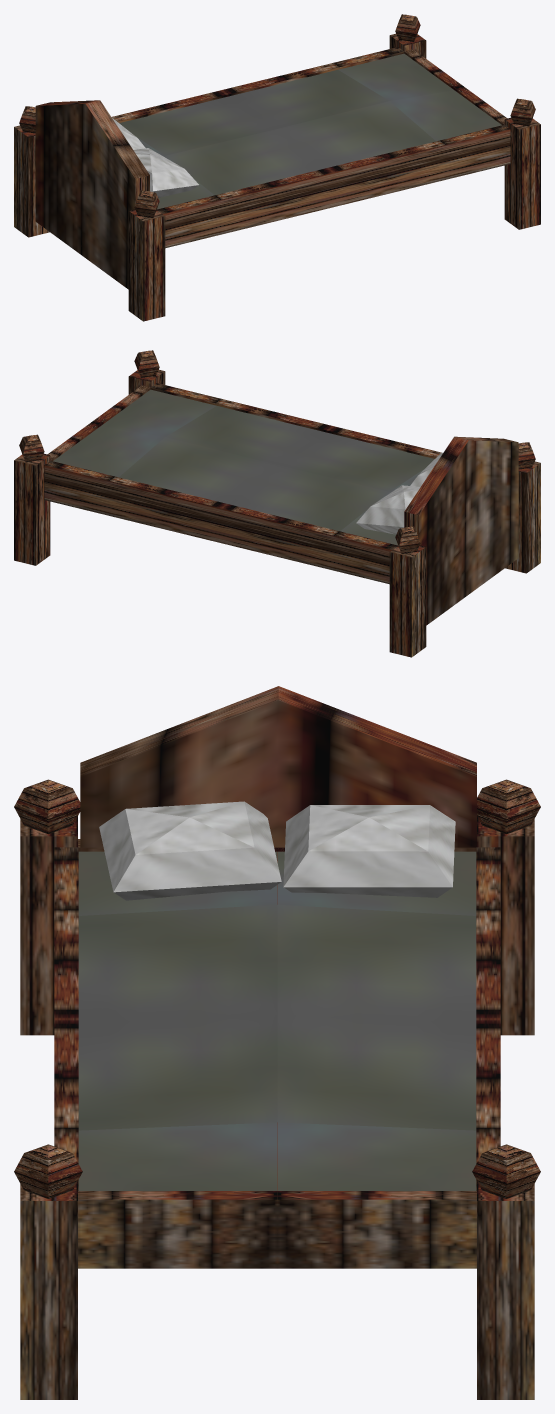
The model's file is bed.fbx.
The picture shows the model from 3 angles, top to bottom: view 1: azimuth 30°, elevation 25°; view 2: azimuth 150°, elevation 25°; view 3: azimuth 270°, elevation 25°; orthographic projection. The views are drawn at different scales.
Visible parts, largest first — view 1: Cube.001, Cube, Sphere; view 2: Cube.001, Cube, Sphere; view 3: Cube.001, Cube, Sphere.
Boxes of the visible parts, <box> form: Cube.001: <box>14,14,540,321</box>; Cube: <box>35,100,149,289</box>; Sphere: <box>111,117,198,197</box>; Cube.001: <box>14,350,540,657</box>; Cube: <box>404,436,518,625</box>; Sphere: <box>356,452,442,534</box>; Cube.001: <box>14,779,540,1399</box>; Cube: <box>80,686,476,850</box>; Sphere: <box>99,801,455,900</box>.
Size of the model in its own units: 545 by 218 by 311.
